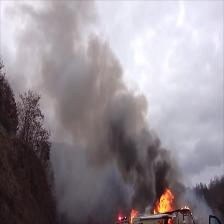fire: (162, 191, 173, 212)
smoke: (23, 3, 164, 194)
